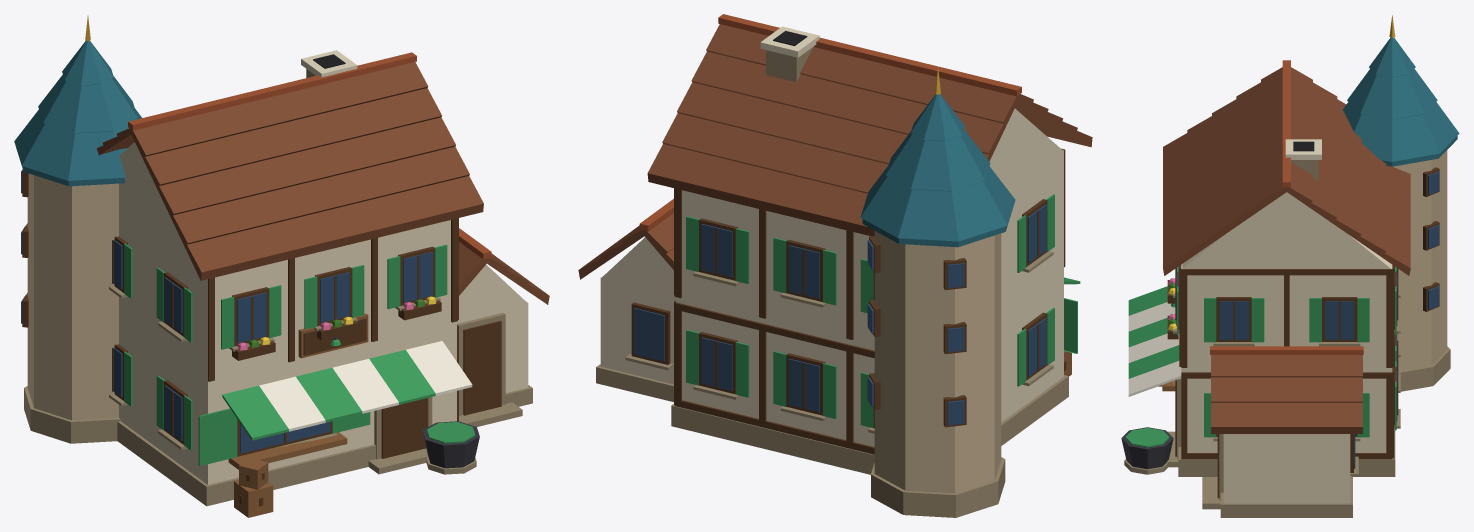
File: Shop_Alchemist.fbx
3 renders of one model, left to right at view 1: azimuth 30°, elevation 25°; view 2: azimuth 150°, elevation 25°; view 3: azimuth 270°, elevation 25°, orthographic. The views are drawn at different scales.
Parts seen in each view (by area): view 1: Shop_Alchemist; view 2: Shop_Alchemist; view 3: Shop_Alchemist.
Boxes of the visible parts, x1,y1,x2,y2 form: Shop_Alchemist: (14, 15, 549, 517); Shop_Alchemist: (578, 14, 1092, 517); Shop_Alchemist: (1121, 15, 1459, 517).
Size of the model in its own units: 10.23 by 9.27 by 8.01.
